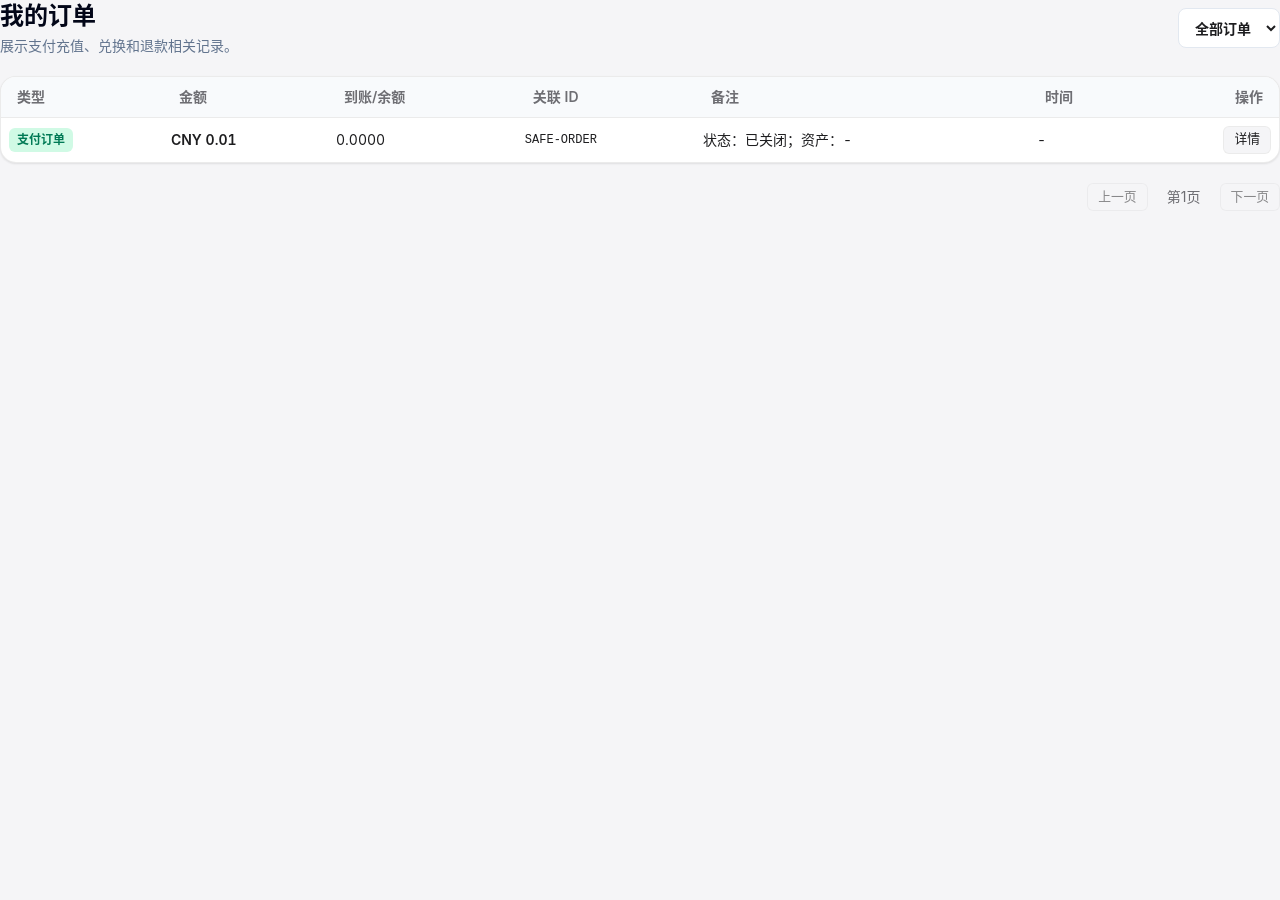
Test: OrdersPage › never opens a payment for status=closed url=https://pay.example.test/closed
Click the button with aria-label "查看订单 SAFE-ORDER": (1247, 140) top-left (1223, 126), bottom-right (1271, 154)
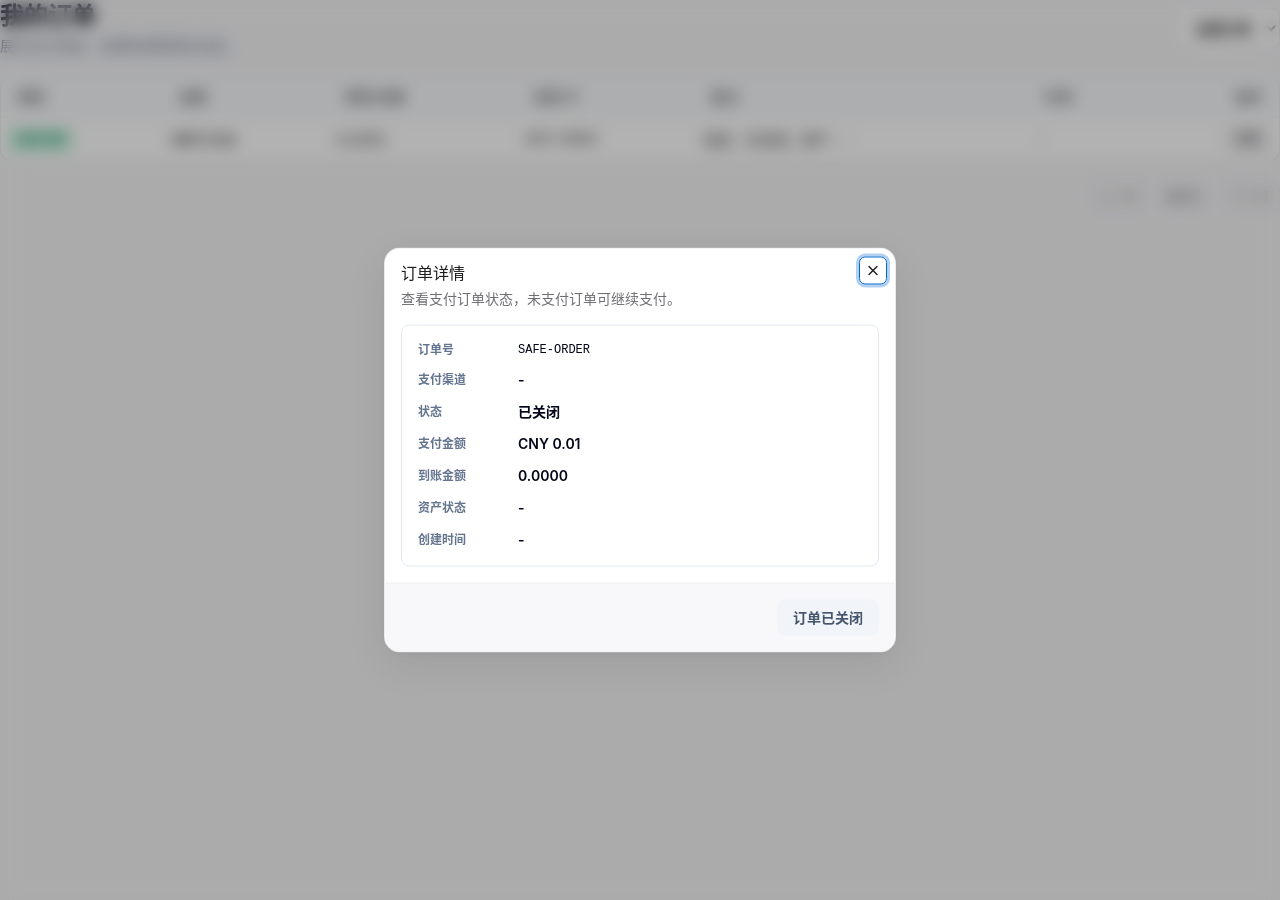
Result: the text "CNY 0.01" is shown at top-left (518, 434), bottom-right (580, 452)
Result: the text "0.0000" is shown at top-left (518, 466), bottom-right (568, 484)
